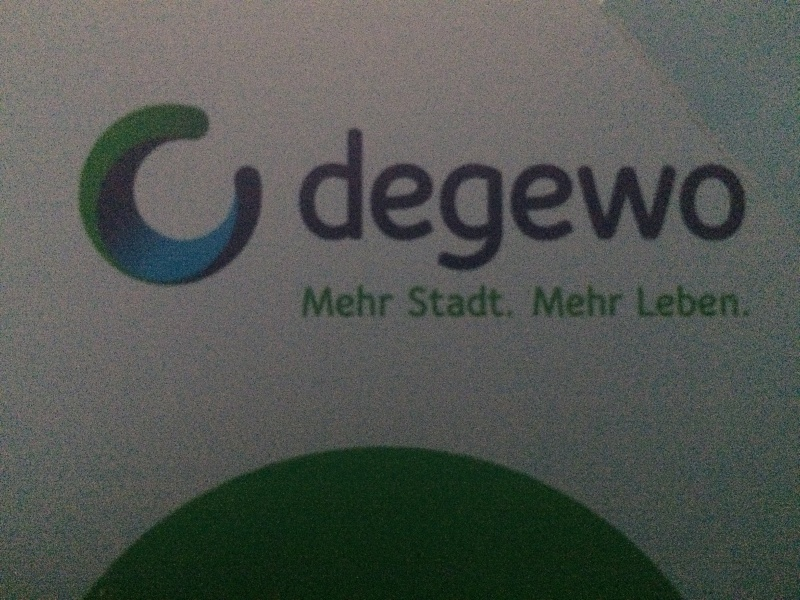text: (305, 126, 320, 272), (321, 126, 336, 272), (337, 126, 352, 272), (353, 126, 368, 272), (369, 126, 384, 272), (385, 126, 400, 272), (401, 126, 416, 272), (417, 126, 432, 272), (433, 126, 448, 272), (449, 126, 464, 272), (465, 126, 480, 272), (481, 126, 496, 272), (497, 126, 512, 272), (513, 126, 528, 272), (529, 126, 544, 272), (545, 126, 560, 272), (561, 126, 576, 272), (577, 126, 592, 272), (593, 126, 608, 272), (609, 126, 624, 272), (625, 126, 640, 272), (641, 126, 656, 272), (657, 126, 672, 272), (673, 126, 688, 272), (689, 126, 704, 272), (705, 126, 720, 272), (721, 126, 736, 272), (737, 126, 746, 272), (300, 126, 304, 272), (417, 285, 432, 318), (433, 285, 448, 318), (449, 285, 464, 318), (465, 285, 480, 318), (481, 285, 496, 318), (497, 285, 512, 318), (545, 285, 560, 317), (561, 285, 576, 317), (577, 285, 592, 317), (593, 285, 608, 317), (641, 286, 656, 318), (657, 286, 672, 318), (673, 286, 688, 318), (689, 286, 704, 318), (705, 286, 720, 318), (721, 286, 736, 318), (321, 286, 336, 317), (337, 286, 352, 317), (353, 286, 368, 317), (369, 286, 384, 317), (609, 285, 622, 317), (307, 286, 320, 317), (737, 286, 749, 318), (385, 286, 395, 317), (536, 285, 544, 317), (409, 285, 416, 318), (638, 286, 640, 318)
